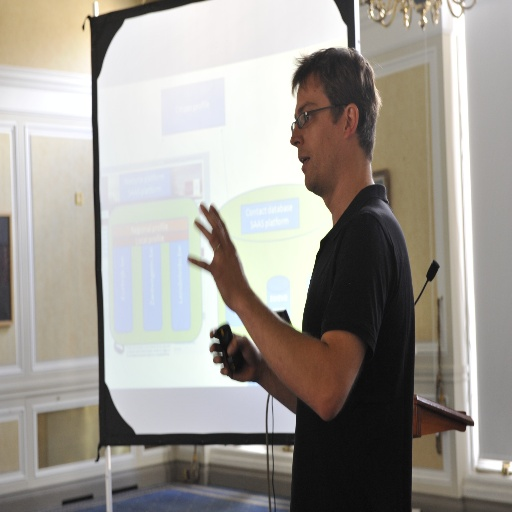hand: (189, 203, 262, 330), (208, 330, 260, 381)
